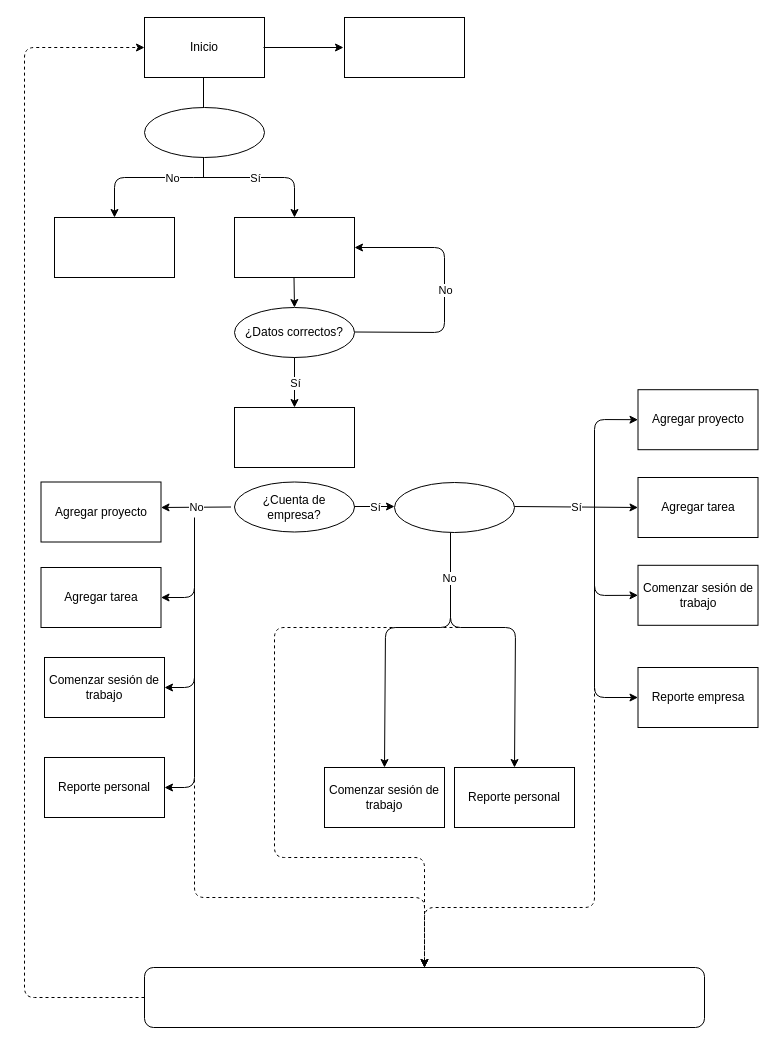
Image size: 776x1045. Some labels were removed from this diagram. The centre of each missing label's shape, as x and y in pixels:
Cerrar sesión: the point at 424,997
Iniciar Sesión: the point at 294,247
Más información: the point at 404,47
Panel de proyectos: the point at 294,437
Registro: the point at 114,247
¿Tiene cuenta?: the point at 204,132
¿Usuario admin?: the point at 454,507
